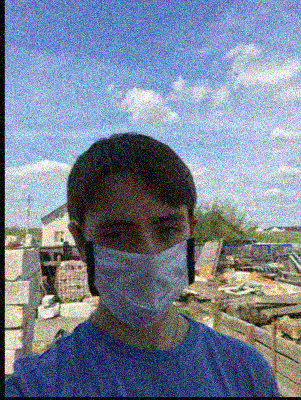with_mask: (82, 196, 195, 330)
